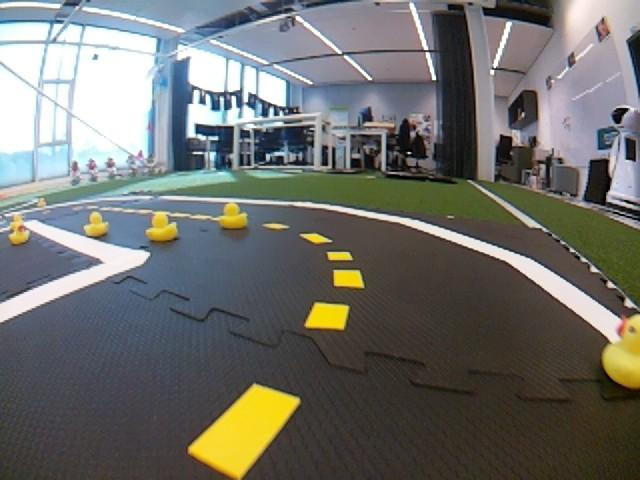Duckies: (601, 309, 638, 393), (145, 213, 177, 241), (216, 203, 246, 227), (84, 212, 108, 236), (7, 222, 29, 244), (11, 214, 25, 230), (37, 199, 47, 207)
